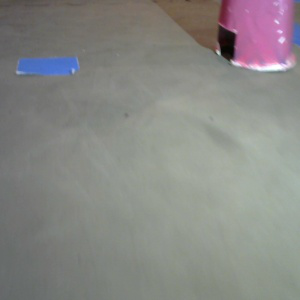right: (215, 1, 297, 71)
